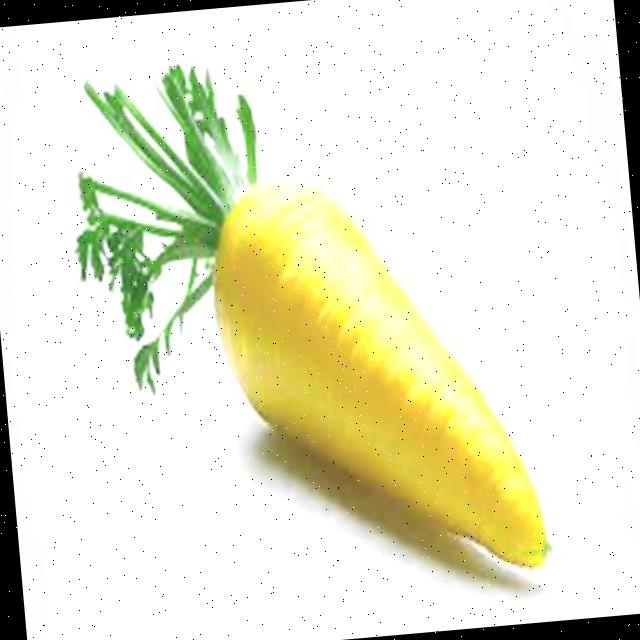carrot: (76, 65, 548, 566)
